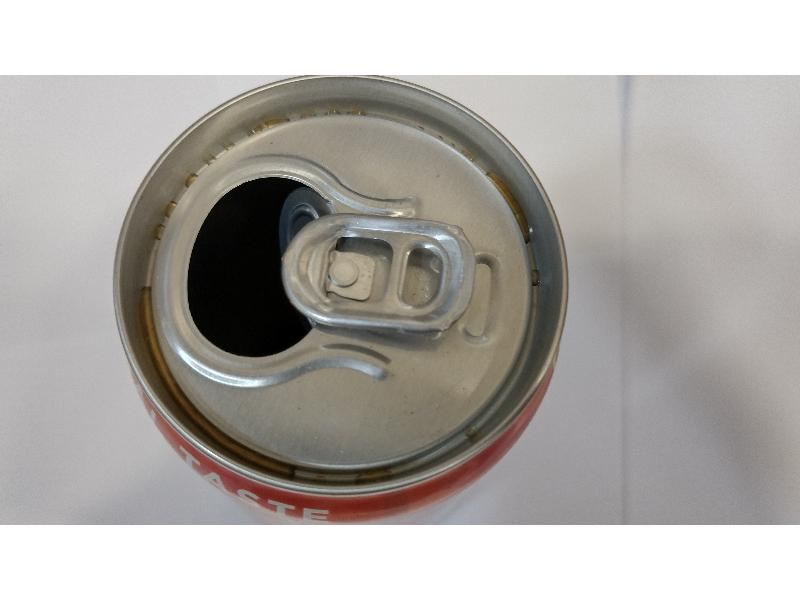can: (107, 72, 582, 524)
